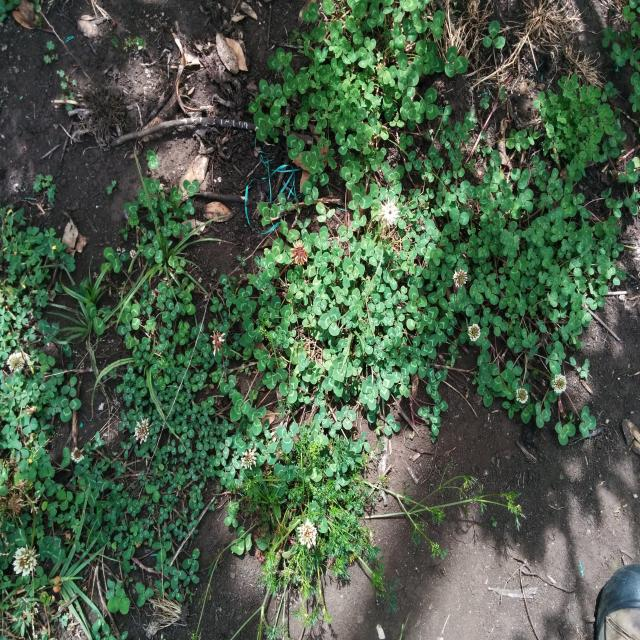Four Leaf Clover: (359, 379, 378, 410), (314, 251, 331, 268)
